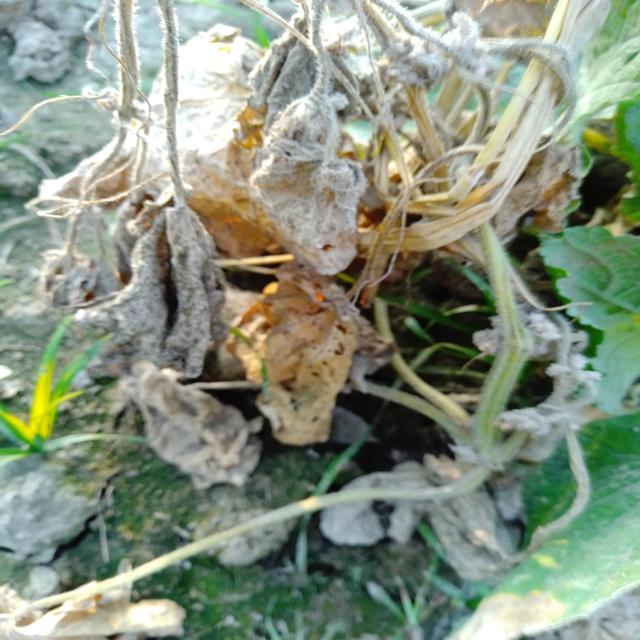cucumber_bacterial: (66, 155, 220, 375), (227, 87, 400, 252), (492, 270, 640, 453), (230, 252, 366, 440), (119, 382, 257, 510)
